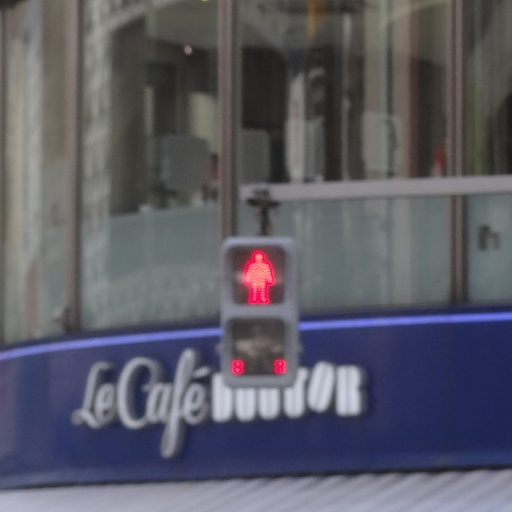Pedestrian_Signal_Red: (218, 232, 303, 384)
